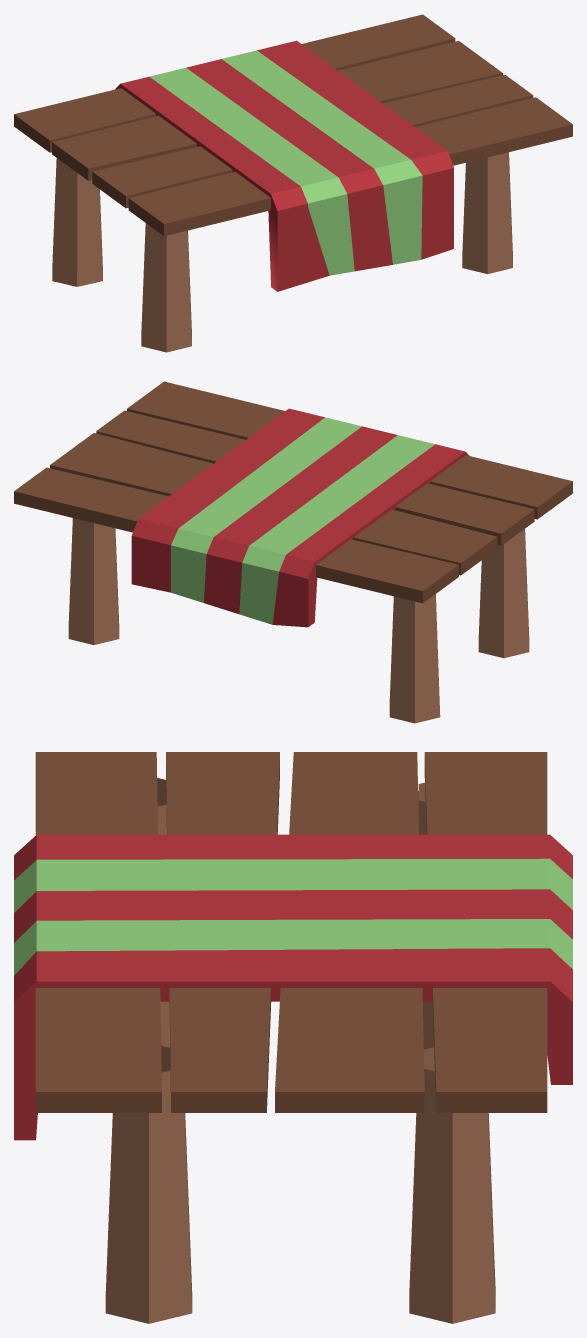
The model's file is mesa_madeira_pacote.glb.
The picture shows the model from 3 angles, top to bottom: view 1: azimuth 30°, elevation 25°; view 2: azimuth 150°, elevation 25°; view 3: azimuth 270°, elevation 25°; orthographic projection. The views are drawn at different scales.
Visible parts, largest first — view 1: mesa_madeira_pacote; view 2: mesa_madeira_pacote; view 3: mesa_madeira_pacote.
Boxes of the visible parts, <box> form: mesa_madeira_pacote: <box>14,14,572,352</box>; mesa_madeira_pacote: <box>14,381,572,723</box>; mesa_madeira_pacote: <box>14,752,572,1323</box>.
Size of the model in its own units: 2.17 by 0.7762 by 1.51.
Materials: 1 (1 with a texture image).
